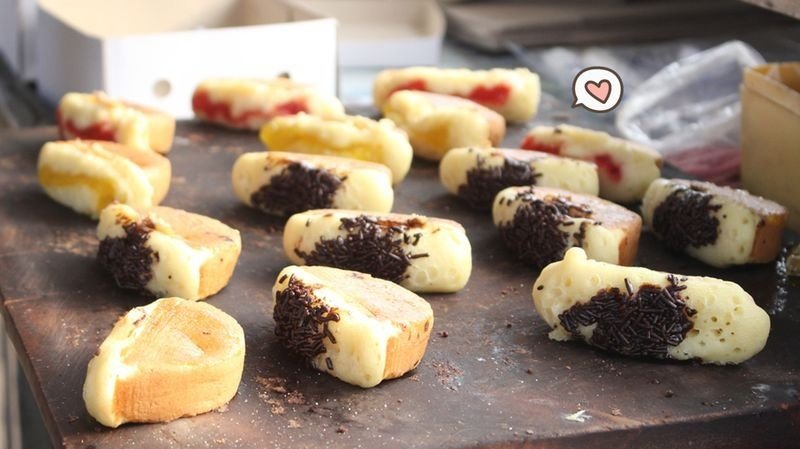pukis: (57, 273, 273, 427)
